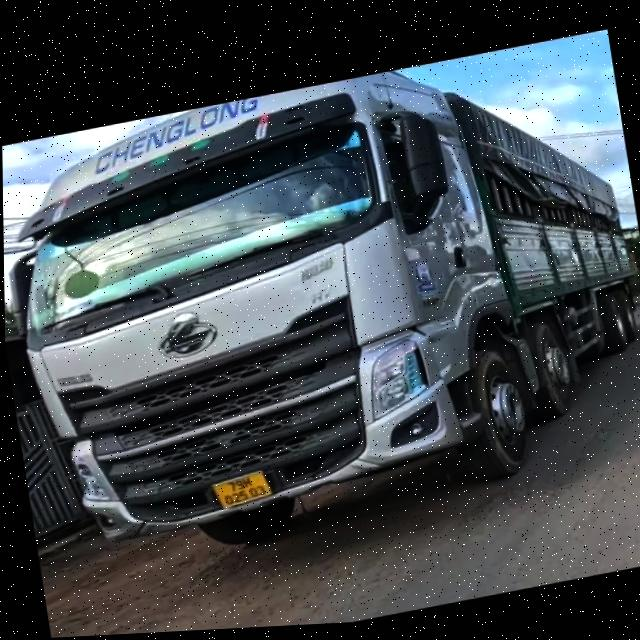car: (1, 36, 640, 580)
plate: (209, 467, 282, 518)
